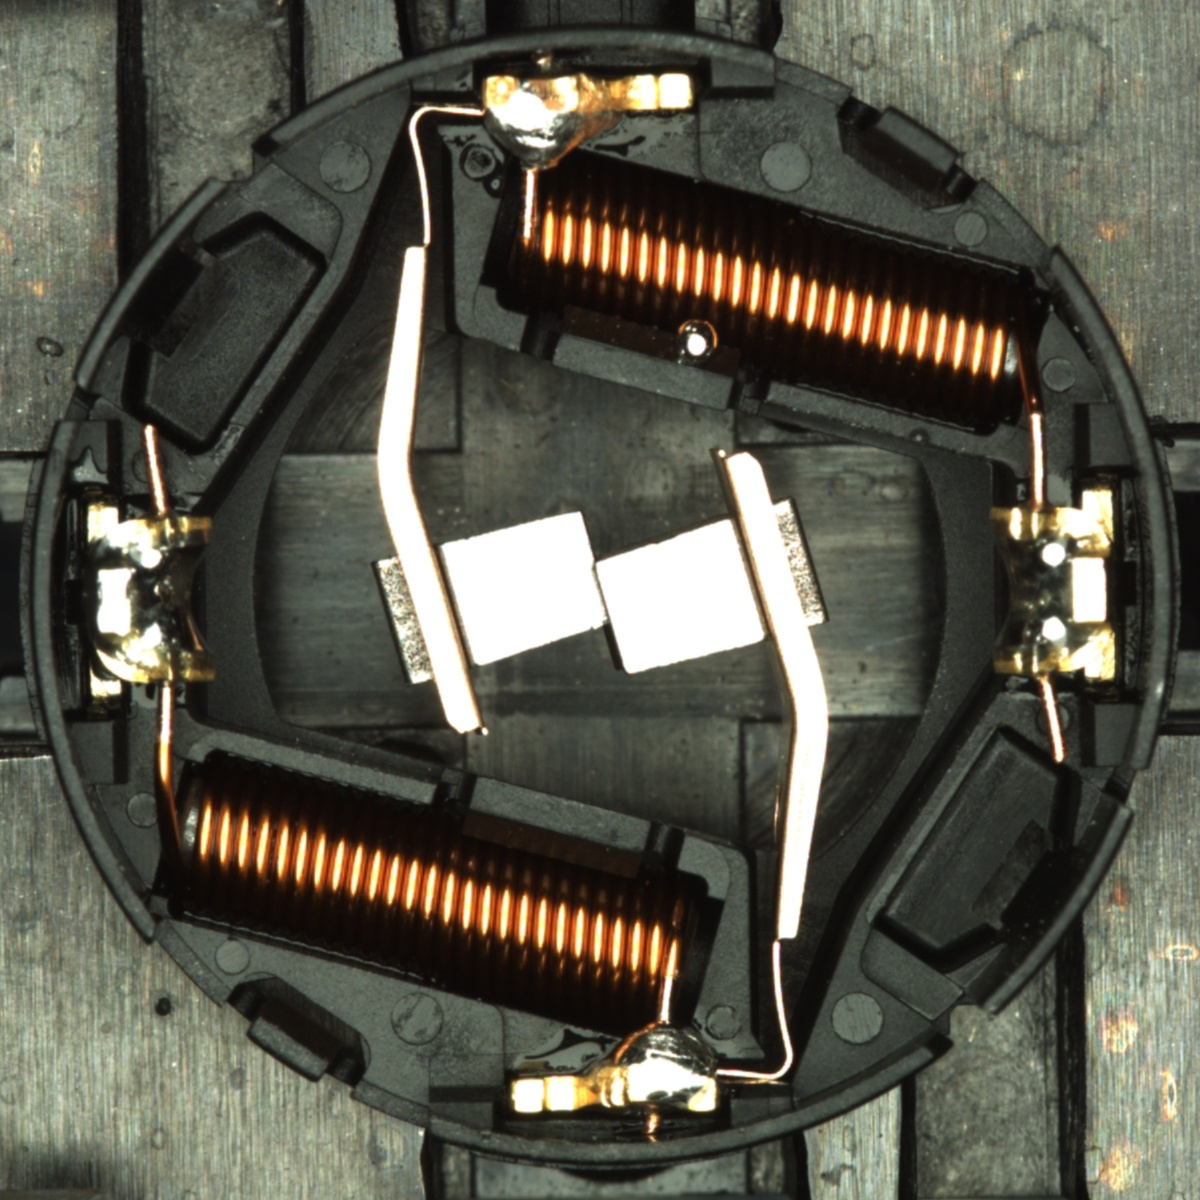1: (712, 929, 942, 1153), (254, 31, 482, 255)
2: (712, 31, 942, 255), (254, 929, 482, 1153)
3: (942, 703, 1170, 929), (24, 255, 254, 479)
4: (712, 703, 942, 929), (254, 255, 482, 479)
5: (482, 815, 712, 1041), (482, 143, 712, 367)
6: (254, 703, 482, 929), (712, 255, 942, 479)
7: (24, 703, 254, 929), (942, 255, 1170, 479)
cacbon: (395, 498, 801, 685)
chau_dien: (984, 487, 1123, 687), (80, 499, 219, 699)
hat_chi: (673, 318, 719, 367)
tay_choi: (478, 71, 698, 175), (508, 1019, 722, 1116)
thanh_de: (954, 786, 1142, 1031), (59, 164, 245, 405)
